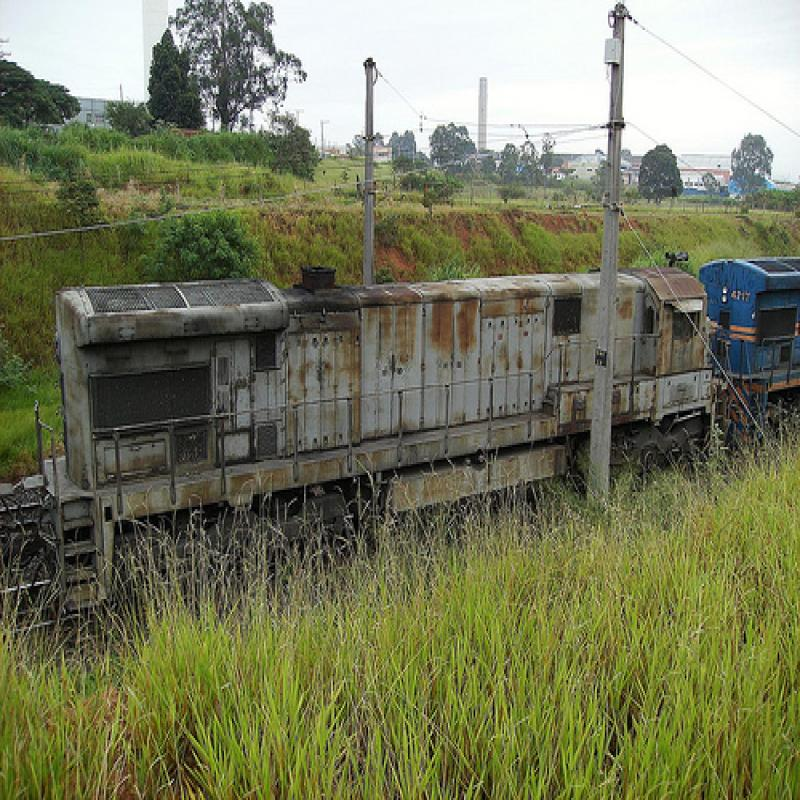train: (32, 249, 800, 621)
